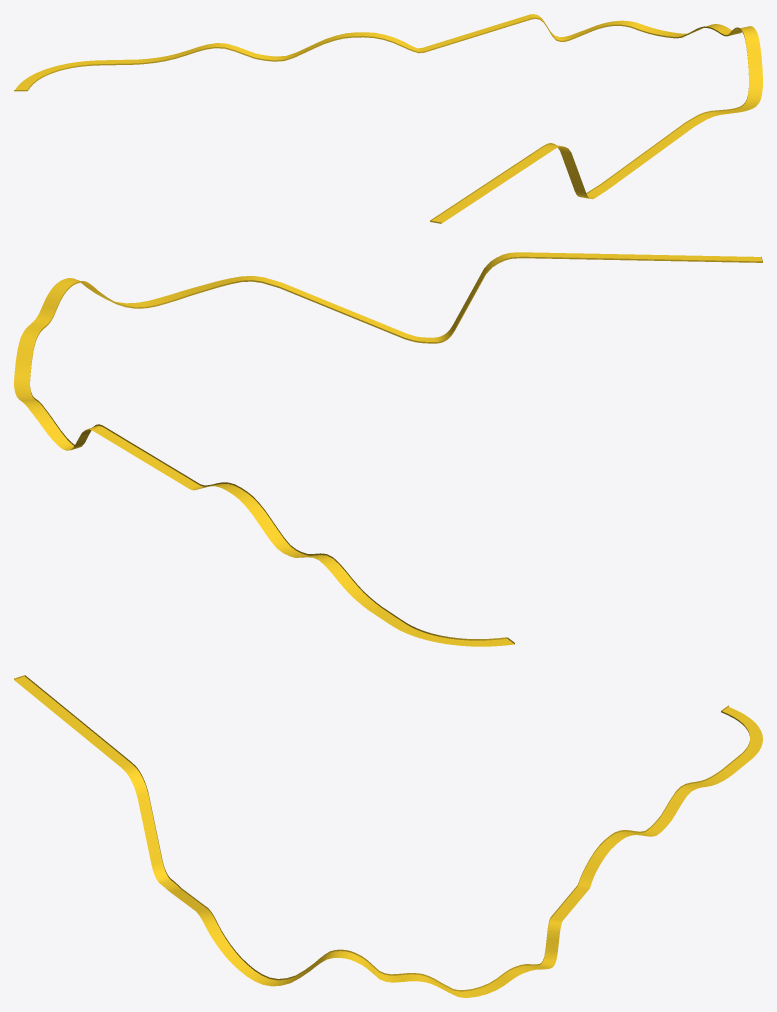
The model's file is CD_JZ_vr_wall_emi01.FBX.
3 renders of one model, top to bottom at view 1: azimuth 30°, elevation 25°; view 2: azimuth 150°, elevation 25°; view 3: azimuth 270°, elevation 25°, orthographic. The views are drawn at different scales.
Parts seen in each view (by area): view 1: CD_JZ_vr_wall_emi01; view 2: CD_JZ_vr_wall_emi01; view 3: CD_JZ_vr_wall_emi01.
Boxes of the visible parts, left/top/right/bottom form: CD_JZ_vr_wall_emi01: left=14, top=14, right=762, bottom=223; CD_JZ_vr_wall_emi01: left=14, top=252, right=762, bottom=646; CD_JZ_vr_wall_emi01: left=14, top=675, right=762, bottom=997.
Bounding box in the file's own units: 3117 × 420 × 3180.
